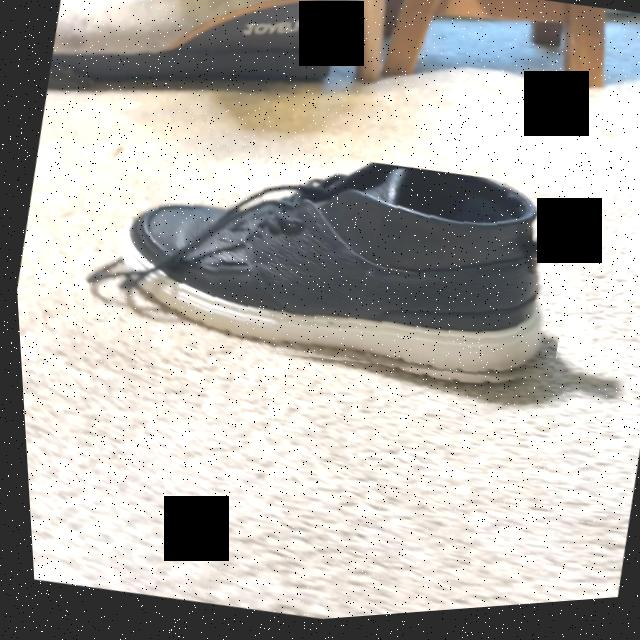shoe: (94, 169, 574, 383)
